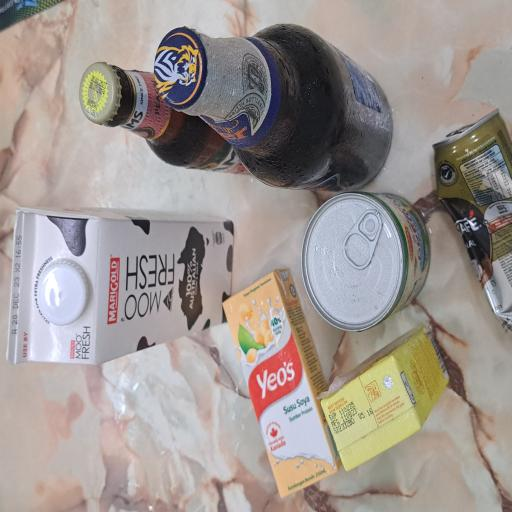can: (135, 401, 240, 512)
drink carton: (110, 6, 228, 310), (10, 296, 182, 452), (32, 426, 138, 512)
glass bottle: (240, 204, 367, 512), (254, 106, 336, 324)
plastic bottle cap: (140, 49, 193, 121)
pop tab: (182, 458, 227, 511)
